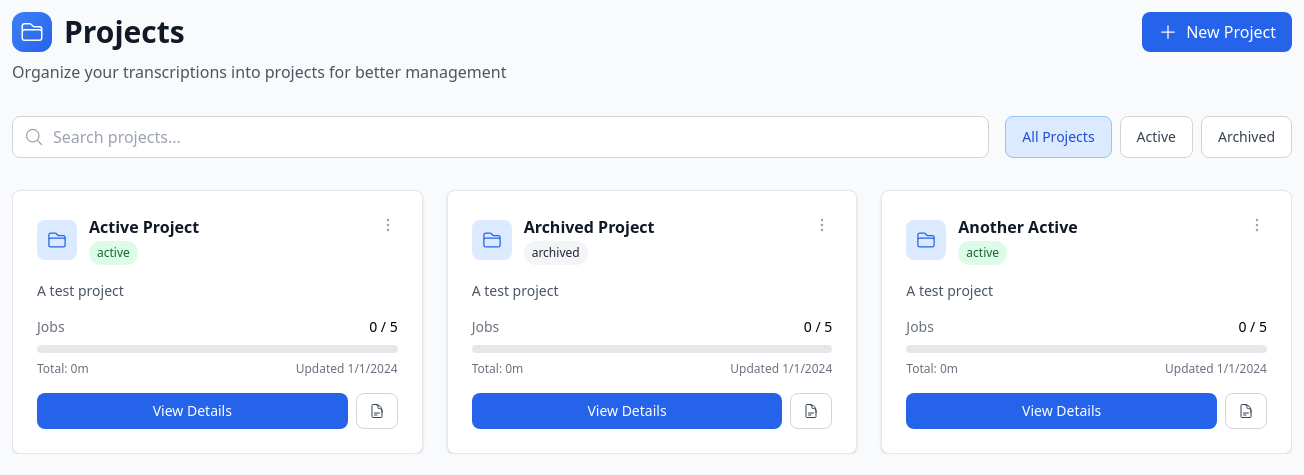
Test case: ProjectsPage Component › Empty State › should show search empty state
This screenshot has width=1304, height=475.
Check: the heading "Active Project" is shown, box top-left (89, 215), bottom-right (199, 239)
Type "nonexistent project" into the field with placeholder "Search projects..." at (501, 137), box top-left (12, 116), bottom-right (989, 158)
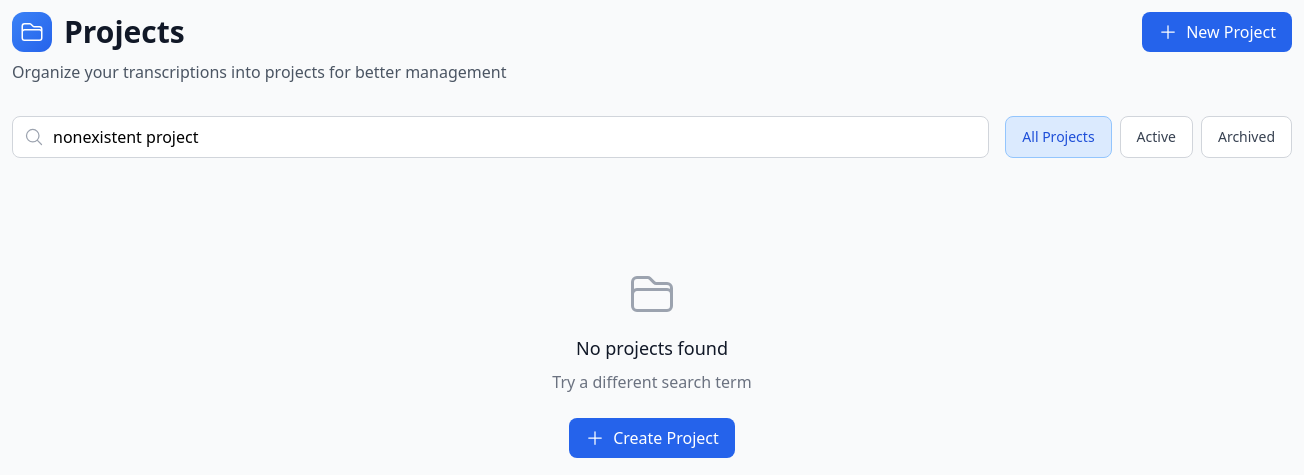
Check: the heading "No projects found" is shown, box top-left (576, 336), bottom-right (728, 360)
Check: the text "Try a different search term" is shown, box top-left (552, 371), bottom-right (752, 393)
